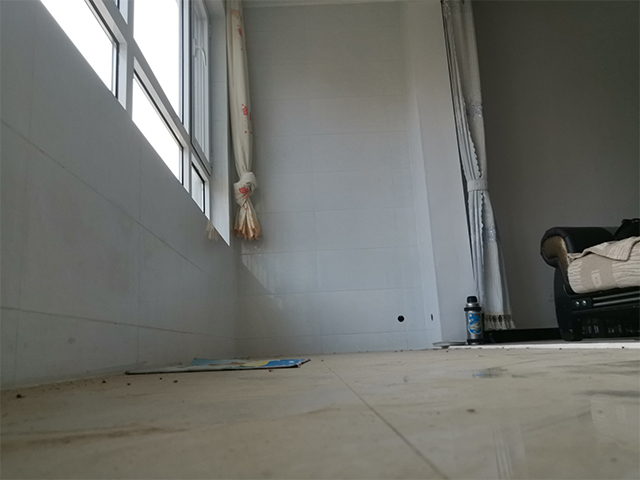carpet: (123, 355, 313, 377)
curtain: (441, 1, 517, 334)
sofa: (536, 214, 640, 344)
